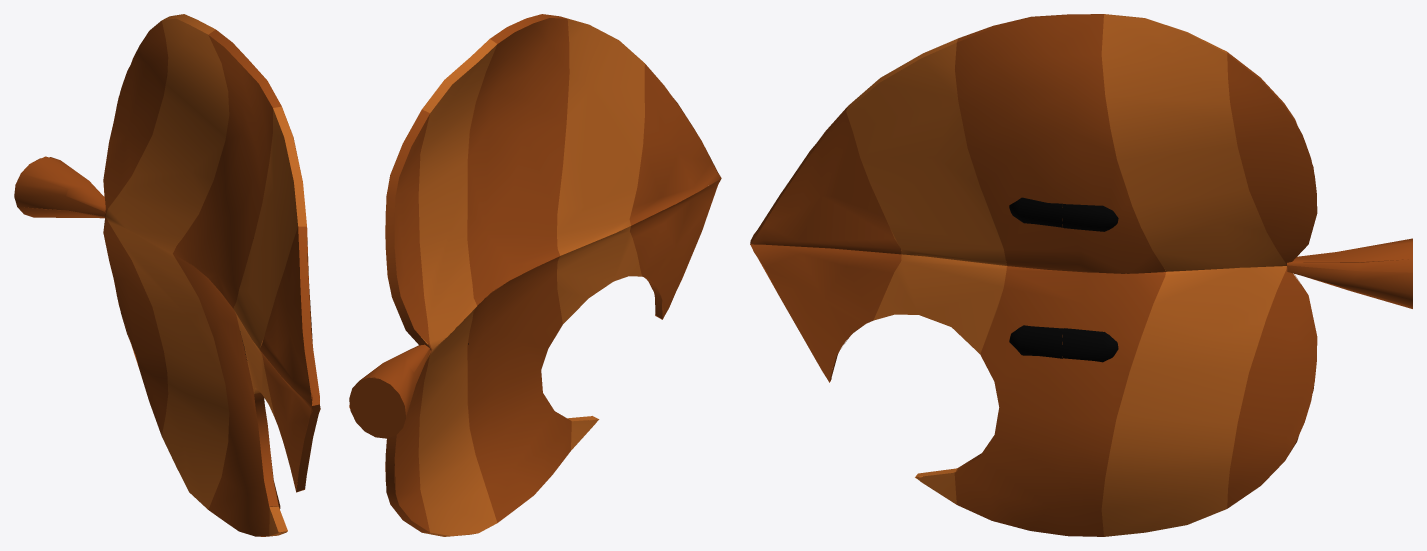
File: marioLeaf-transformed.glb
3 renders of one model, left to right at view 1: azimuth 30°, elevation 25°; view 2: azimuth 150°, elevation 25°; view 3: azimuth 270°, elevation 25°, orthographic. The views are drawn at different scales.
Parts seen in each view (by area): view 1: Mario Leaf; view 2: Mario Leaf; view 3: Mario Leaf.
Boxes of the visible parts, x1,y1,x2,y2 form: Mario Leaf: (14,14,320,536); Mario Leaf: (349,14,721,536); Mario Leaf: (750,14,1412,536).
Bounding box in the file's own units: 0.7011 × 3.49 × 4.01.
Materials: 1 (1 with a texture image).
